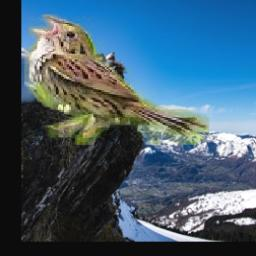Sparrow: (24, 14, 209, 145)
